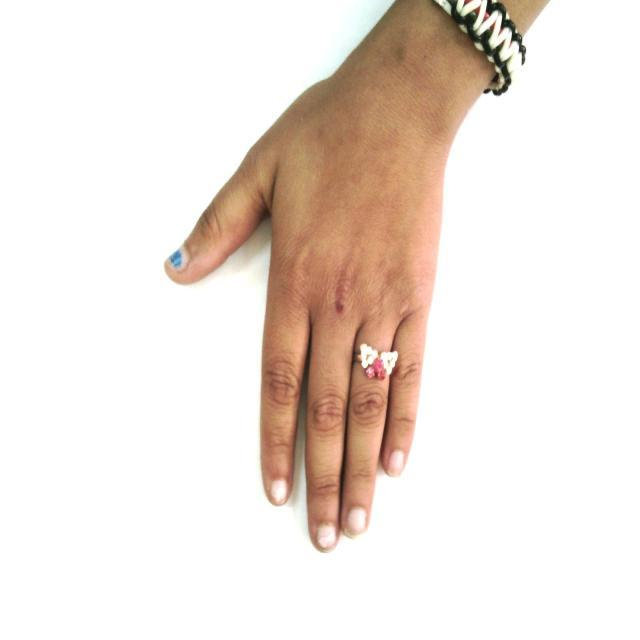Fingernail: (166, 247, 190, 271), (347, 507, 365, 535), (317, 524, 337, 549), (387, 451, 403, 476), (272, 480, 288, 503)
